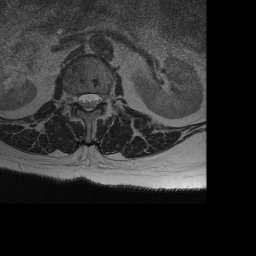CCS_normal: (84, 87, 92, 117)
LFS_normal: (99, 87, 107, 109)
LLS_normal: (92, 87, 99, 113)
RFS_normal: (70, 87, 77, 110)
RLS_normal: (77, 87, 84, 112)
